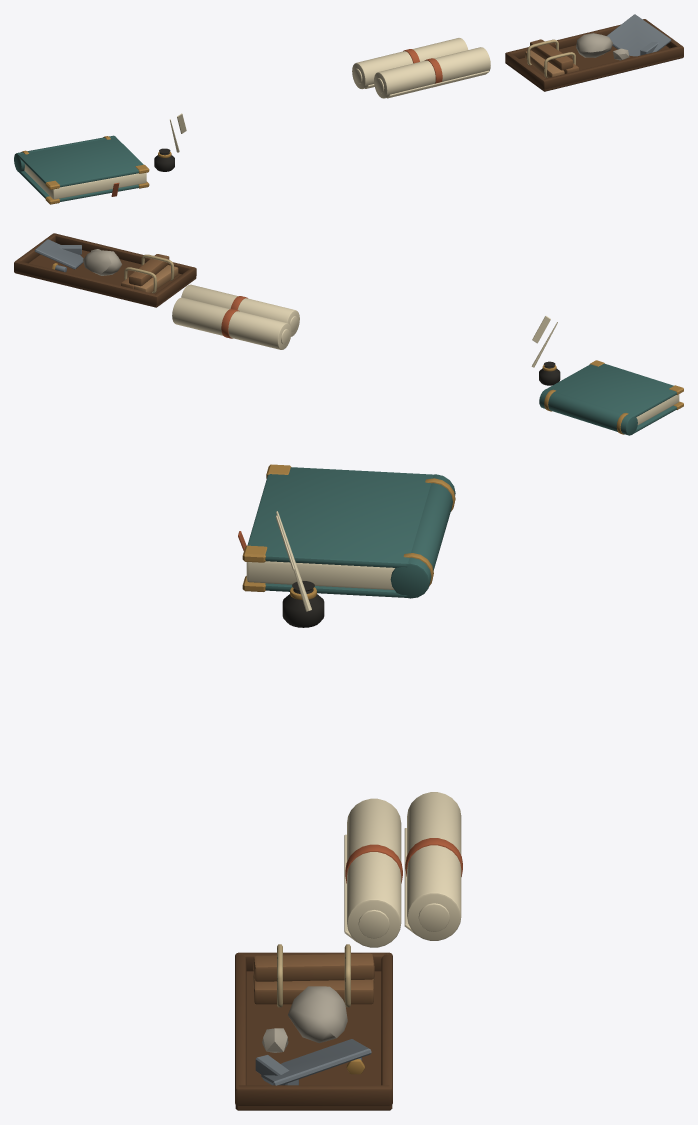
File: rook_counter_stock.glb
3 views of the same model, one above another, from view 1: azimuth 30°, elevation 25°; view 2: azimuth 150°, elevation 25°; view 3: azimuth 270°, elevation 25° (orthographic). The views are drawn at different scales.
Parts seen in each view (by area): view 1: Ledger, SampleTray, PlanRoll1, PlanRoll0, ScrapSample, TimberBundle, StoneSample, Inkwell; view 2: Ledger, SampleTray, PlanRoll0, PlanRoll1, TimberBundle, ScrapSample, StoneSample, Inkwell, Quill; view 3: Ledger, SampleTray, PlanRoll1, PlanRoll0, TimberBundle, StoneSample, ScrapSample, Inkwell.
Part boxes in pixels (<box>): Ledger: <box>14,135,149,204</box>; SampleTray: <box>505,19,683,91</box>; PlanRoll1: <box>374,47,490,98</box>; PlanRoll0: <box>352,38,468,89</box>; ScrapSample: <box>607,14,671,56</box>; TimberBundle: <box>525,39,578,77</box>; StoneSample: <box>576,33,629,60</box>; Inkwell: <box>154,148,174,171</box>; Ledger: <box>539,360,683,435</box>; SampleTray: <box>14,233,196,307</box>; PlanRoll0: <box>172,297,291,349</box>; PlanRoll1: <box>181,284,299,336</box>; TimberBundle: <box>121,254,178,293</box>; ScrapSample: <box>34,239,83,272</box>; StoneSample: <box>83,249,121,275</box>; Inkwell: <box>539,361,560,385</box>; Quill: <box>531,316,557,367</box>; Ledger: <box>238,464,455,598</box>; SampleTray: <box>235,952,392,1110</box>; PlanRoll1: <box>344,798,402,947</box>; PlanRoll0: <box>404,792,462,940</box>; TimberBundle: <box>253,944,374,1007</box>; StoneSample: <box>262,986,347,1052</box>; ScrapSample: <box>255,1039,371,1085</box>; Inkwell: <box>282,581,324,627</box>.
Bounding box in the file's own units: 2.77 × 0.2559 × 0.436.
